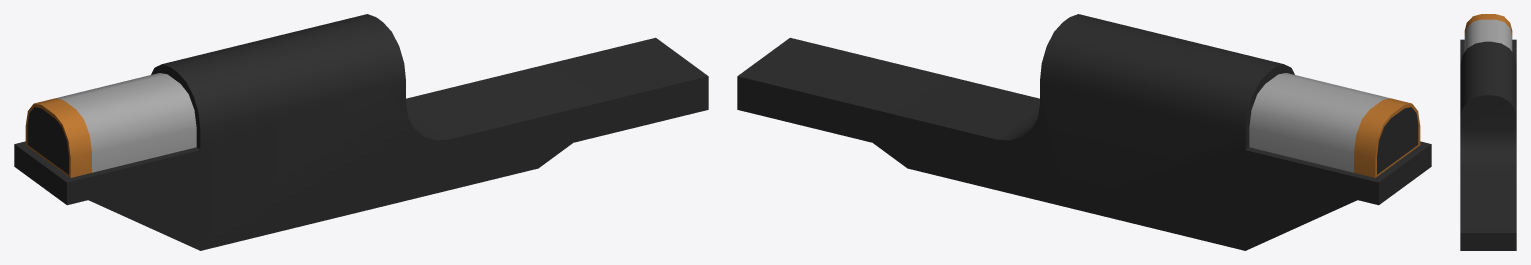
Rendered from quaternius-modular-sci-fi-guns-body-pistol-2.glb.
3 renders of one model, left to right at view 1: azimuth 30°, elevation 25°; view 2: azimuth 150°, elevation 25°; view 3: azimuth 270°, elevation 25°, orthographic. The views are drawn at different scales.
Parts seen in each view (by area): view 1: Body_Pistol_2; view 2: Body_Pistol_2; view 3: Body_Pistol_2.
Part boxes in pixels (x1=…): Body_Pistol_2: x1=14, y1=14, x2=708, y2=250; Body_Pistol_2: x1=737, y1=14, x2=1431, y2=250; Body_Pistol_2: x1=1460, y1=14, x2=1516, y2=250.
Size of the model in its own units: 0.7904 by 0.1906 by 0.1124.
